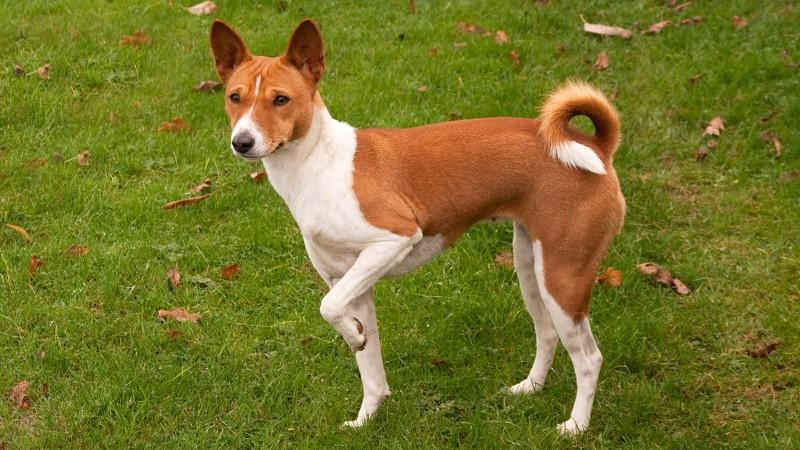fracture: (283, 235, 425, 368)
